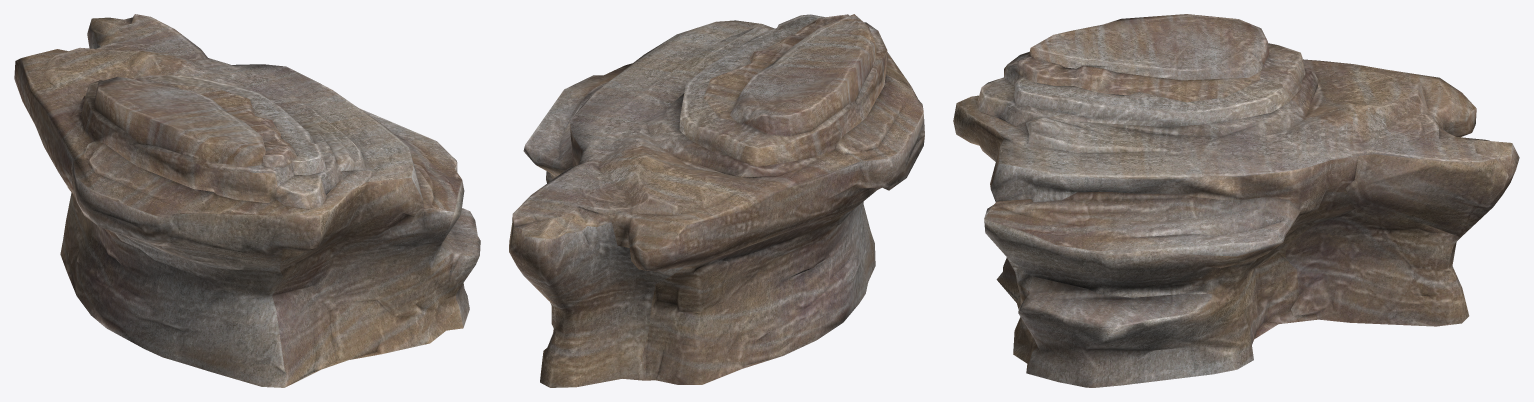
The model's file is rock_medium02_cave.dae.
The picture shows the model from 3 angles, left to right: view 1: azimuth 30°, elevation 25°; view 2: azimuth 150°, elevation 25°; view 3: azimuth 270°, elevation 25°; orthographic projection.
Parts seen in each view (by area): view 1: Mesh; view 2: Mesh; view 3: Mesh.
Part boxes in pixels (x1=…): Mesh: x1=14, y1=14, x2=480, y2=387; Mesh: x1=509, y1=14, x2=924, y2=387; Mesh: x1=953, y1=14, x2=1519, y2=387.
Bounding box in the file's own units: 5.13 × 3.14 × 6.89.
